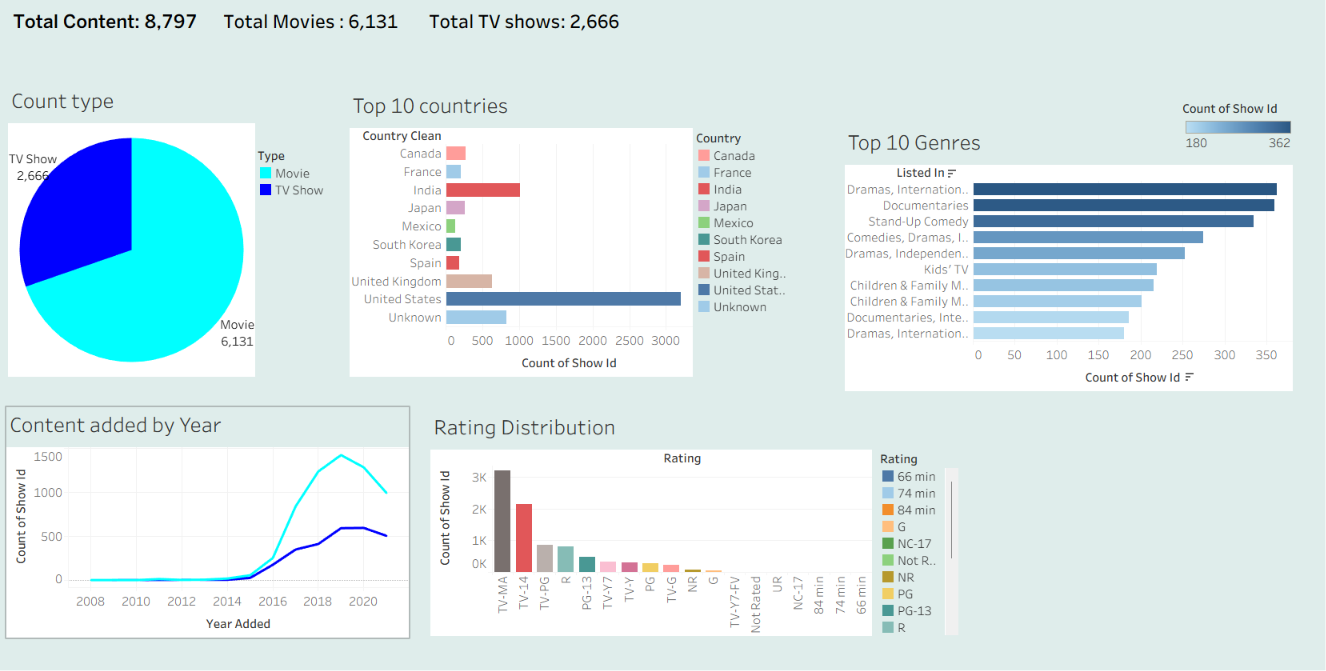

This screenshot's page, from the dashboard's own definition file:
{"tool":"tableau","page":{"name":"Dashboard 1","canvas":[1000,1000],"units":"permille","ordinal":0},"visuals":[{"type":"text","box":[7.9,15.3,169,49.4]},{"type":"text","box":[166.6,20,172,37.6]},{"type":"text","box":[321.7,20,147.9,37.6]},{"type":"worksheet","title":"Count type","mark":"Pie","box":[6,130.4,186.5,431.3]},{"type":"worksheet","title":"Top 10 countries","mark":"Bar","rows":["country_clean"],"cols":["show_id"],"box":[263.7,137.5,258.9,424.2]},{"type":"legend","title":"Top 10 Genres","param":"[federated.0evzh8i06hhxvi171fso31upvzer].[cnt:show_id:qk]","box":[892,155.1,84.5,103.4]},{"type":"worksheet","title":"Top 10 Genres","mark":"Automatic","rows":["listed_in"],"cols":["show_id"],"box":[637.3,191.5,338,391.3]},{"type":"legend","title":"Top 10 countries","param":"[federated.0evzh8i06hhxvi171fso31upvzer].[none:country_clean:nk]","box":[525,198.6,71.2,306.7]},{"type":"legend","title":"Count type","param":"[federated.0evzh8i06hhxvi171fso31upvzer].[none:type:nk]","box":[194.3,224.4,84.5,75.2]},{"type":"worksheet","title":"Content added by Year","mark":"Line","rows":["show_id"],"cols":["year_added"],"box":[4.8,606.4,303.6,338.4]},{"type":"worksheet","title":"Rating Distribution","mark":"Automatic","rows":["show_id"],"cols":["rating"],"box":[324.7,609.9,333.1,332.6]},{"type":"legend","title":"Rating Distribution","param":"[federated.0evzh8i06hhxvi171fso31upvzer].[none:rating:nk]","box":[663.9,669.8,60.4,271.4]}]}

Visuals, with their boxes on the dashboard's canvas, which has no fixed pixel size, in thousandths of its width and height (x1, y1, x2, y2). These are canvas units, not pixel positions in the 1326x671 screenshot, which may show the page scaled, cropped or inside an application window:
text: [8,15,177,65]
text: [167,20,339,58]
text: [322,20,470,58]
"Count type" worksheet (Pie marks): [6,130,192,562]
"Top 10 countries" worksheet (Bar marks): [264,138,523,562]
"Top 10 Genres" legend: [892,155,976,258]
"Top 10 Genres" worksheet: [637,192,975,583]
"Top 10 countries" legend: [525,199,596,505]
"Count type" legend: [194,224,279,300]
"Content added by Year" worksheet (Line marks): [5,606,308,945]
"Rating Distribution" worksheet: [325,610,658,942]
"Rating Distribution" legend: [664,670,724,941]
